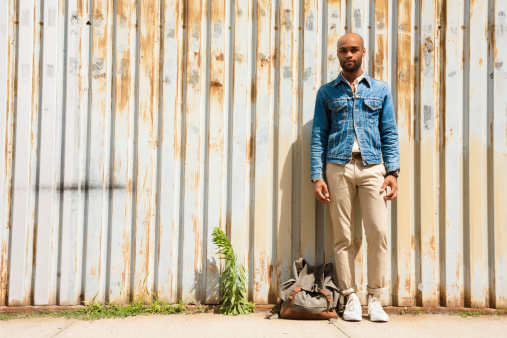em pe: (303, 25, 398, 313)
